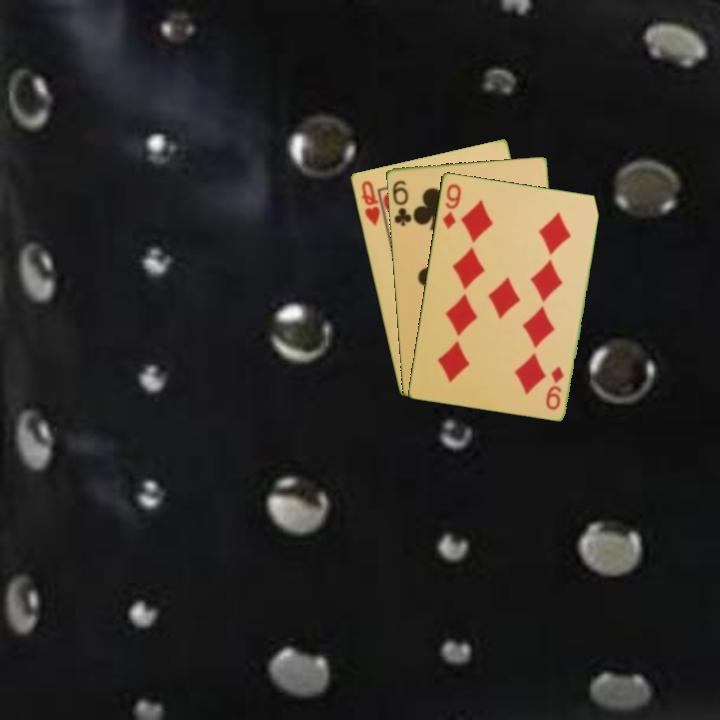6c: (389, 177, 414, 229)
9d: (439, 180, 464, 231), (542, 363, 566, 412)
Qh: (357, 177, 383, 229)
